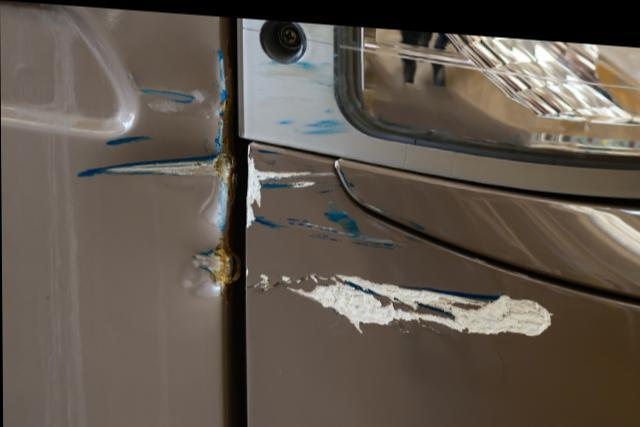dent: (113, 130, 232, 293)
scratch: (245, 139, 563, 341), (72, 39, 227, 181), (270, 49, 349, 136)
